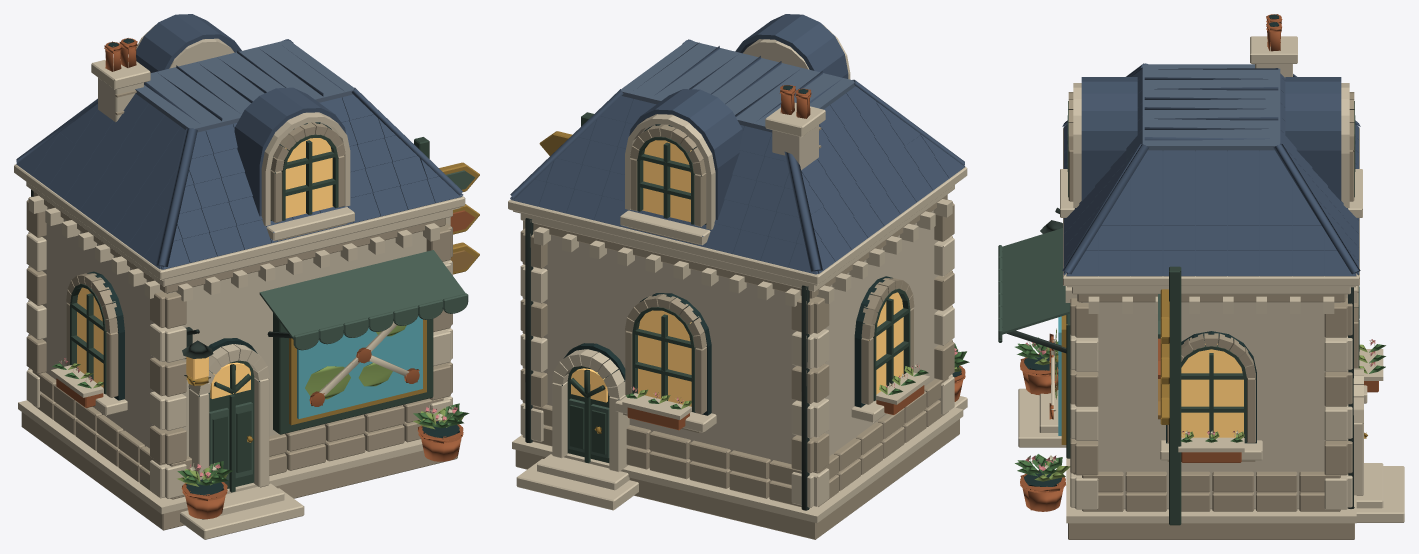
The picture shows the model from 3 angles, left to right: view 1: azimuth 30°, elevation 25°; view 2: azimuth 150°, elevation 25°; view 3: azimuth 270°, elevation 25°; orthographic projection.
Visible parts, largest first — view 1: classic_junction_hub_geometry, classic_junction_hub_geometry ceramic; view 2: classic_junction_hub_geometry, classic_junction_hub_geometry ceramic; view 3: classic_junction_hub_geometry, classic_junction_hub_geometry ceramic.
Part boxes in pixels (bbox=[...]): classic_junction_hub_geometry: bbox=[14, 24, 479, 539]; classic_junction_hub_geometry ceramic: bbox=[16, 14, 463, 269]; classic_junction_hub_geometry: bbox=[508, 25, 969, 539]; classic_junction_hub_geometry ceramic: bbox=[510, 14, 965, 274]; classic_junction_hub_geometry: bbox=[998, 14, 1404, 539]; classic_junction_hub_geometry ceramic: bbox=[1062, 63, 1360, 276].
Size of the model in its own units: 1.04 by 1.02 by 0.9257.
